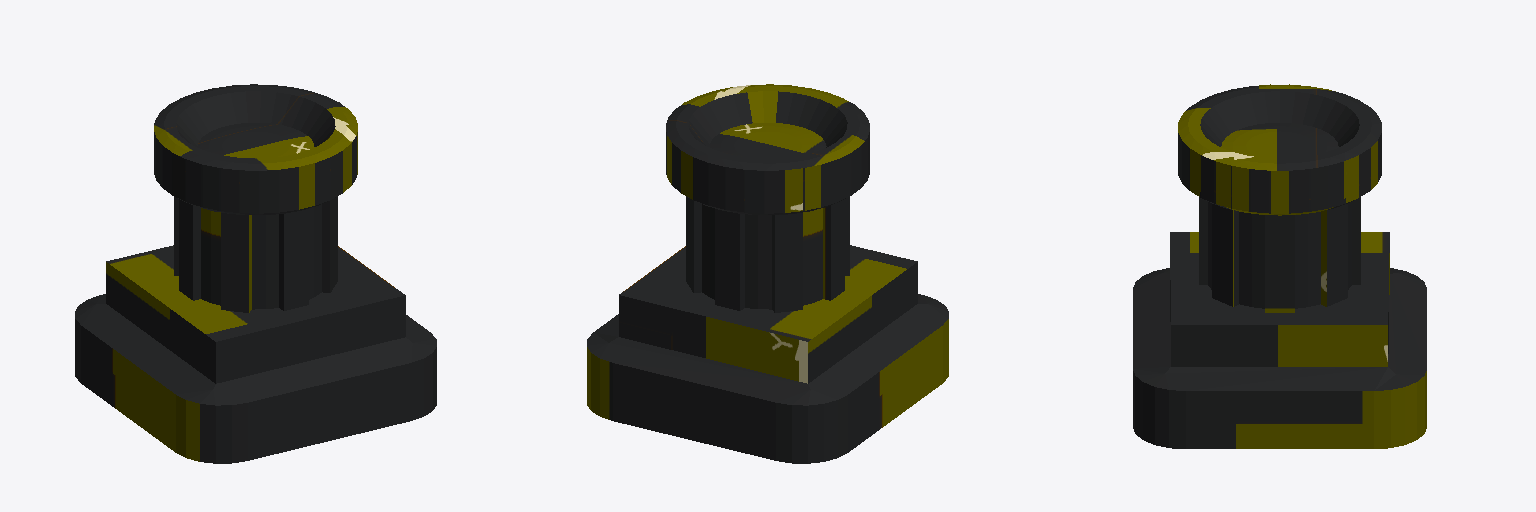
3 renders of one model, left to right at view 1: azimuth 30°, elevation 25°; view 2: azimuth 150°, elevation 25°; view 3: azimuth 270°, elevation 25°, orthographic.
Visible parts, largest first — view 1: 立方体; view 2: 立方体; view 3: 立方体.
Boxes of the visible parts, box(x1,y1,x2,y2) form: 立方体: box(75, 84, 436, 463); 立方体: box(587, 84, 948, 463); 立方体: box(1133, 84, 1426, 448).
Size of the model in its own units: 0.4 by 0.3934 by 0.4.
1 materials, 1 textured.